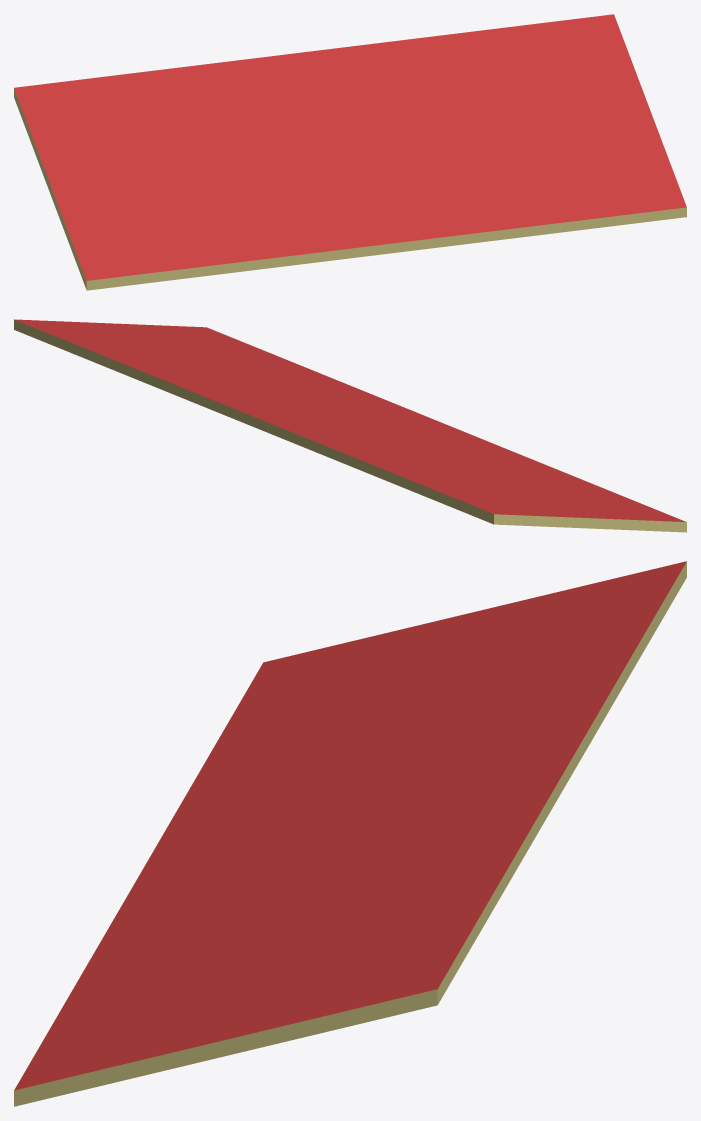
The picture shows the model from 3 angles, top to bottom: view 1: azimuth 30°, elevation 25°; view 2: azimuth 150°, elevation 25°; view 3: azimuth 270°, elevation 25°; orthographic projection. The views are drawn at different scales.
Size of the model in its own units: 6.23 by 3.75 by 0.994.
